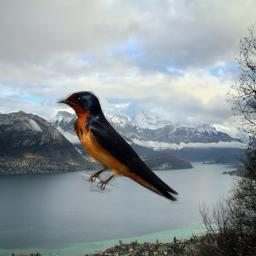Swallow: (56, 91, 179, 204)
